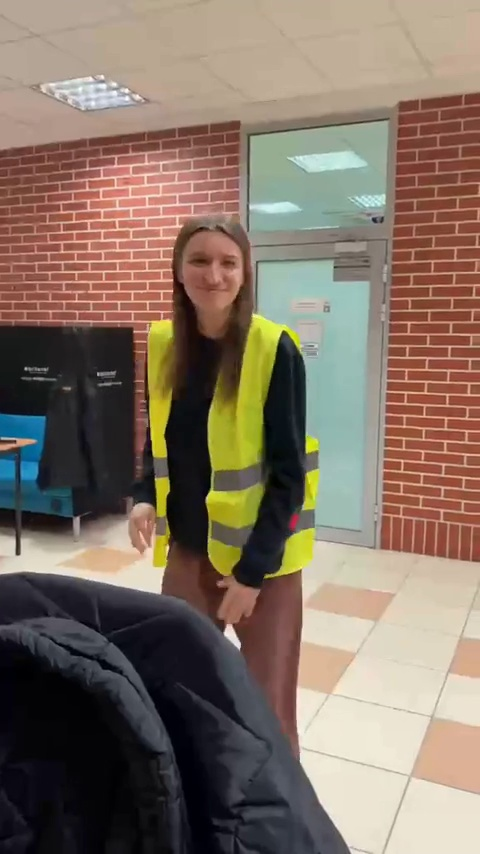vest: (144, 216, 325, 668)
